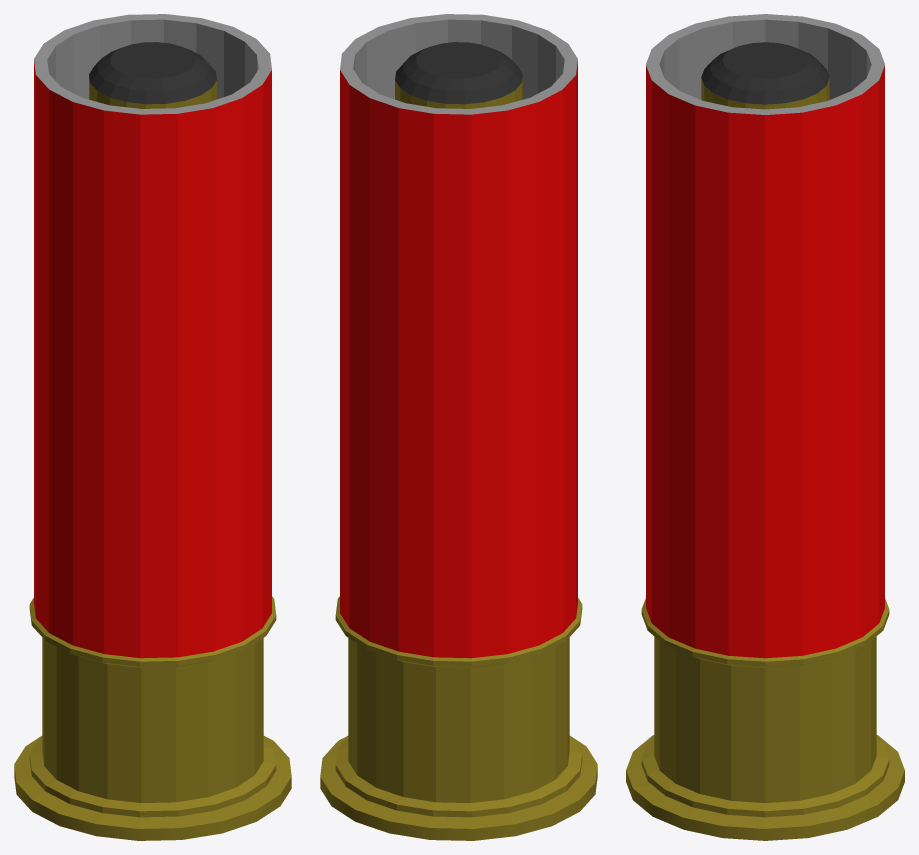
The model's file is Bullet.FBX.
3 views of the same model, side by side, from view 1: azimuth 30°, elevation 25°; view 2: azimuth 150°, elevation 25°; view 3: azimuth 270°, elevation 25° (orthographic).
Visible parts, largest first — view 1: Cylinder005; view 2: Cylinder005; view 3: Cylinder005.
Boxes of the visible parts, x1=… form: Cylinder005: x1=14, y1=14, x2=291, y2=840; Cylinder005: x1=320, y1=14, x2=597, y2=840; Cylinder005: x1=626, y1=14, x2=904, y2=840.
Bounding box in the file's own units: 6.89 × 19.68 × 6.89.
